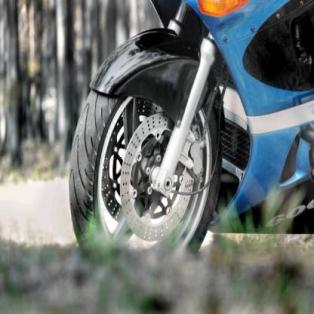Motocicleta: (65, 0, 313, 270)
